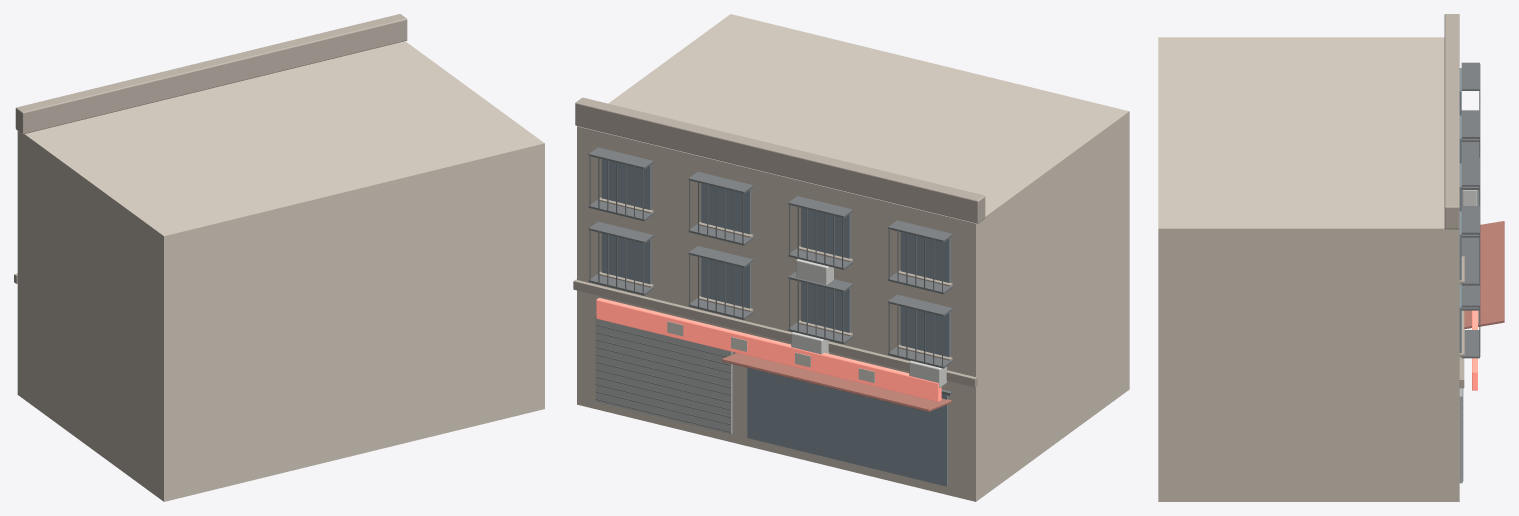
Rendered from shop_a.glb.
3 views of the same model, side by side, from view 1: azimuth 30°, elevation 25°; view 2: azimuth 150°, elevation 25°; view 3: azimuth 270°, elevation 25° (orthographic). The views are drawn at different scales.
Parts seen in each view (by area): view 1: shop_a; view 2: shop_a; view 3: shop_a.
Part boxes in pixels (box(x1,y1,x2,y2)): shop_a: box(14, 14, 544, 501); shop_a: box(573, 14, 1129, 501); shop_a: box(1158, 14, 1504, 501).
Size of the model in its own units: 9.1 by 6.5 by 6.9.
